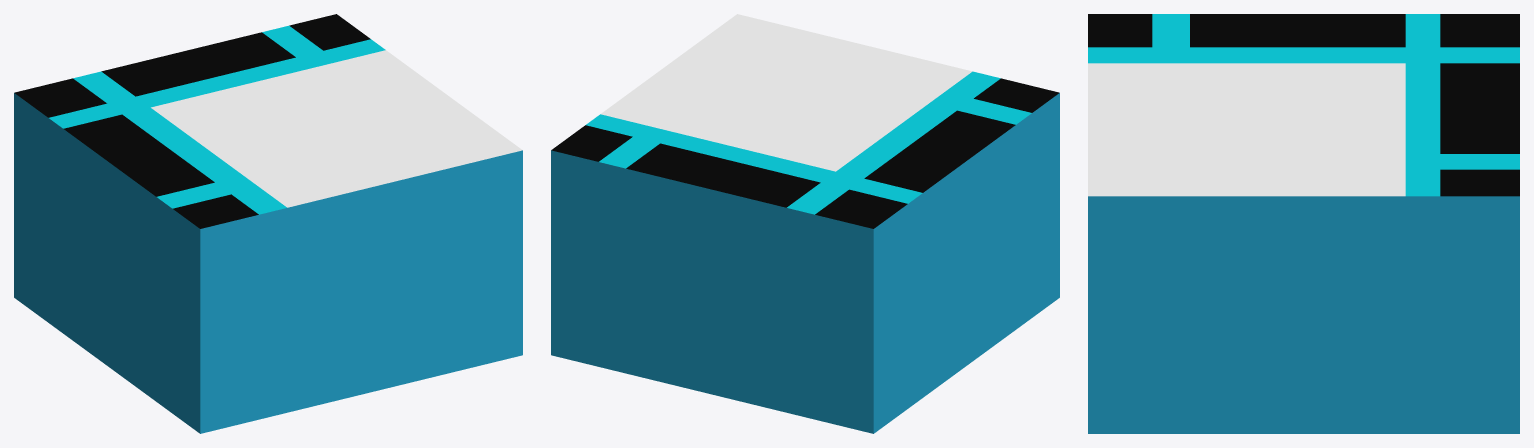
The model's file is GroundCenter.fbx.
The picture shows the model from 3 angles, left to right: view 1: azimuth 30°, elevation 25°; view 2: azimuth 150°, elevation 25°; view 3: azimuth 270°, elevation 25°; orthographic projection. The views are drawn at different scales.
Parts seen in each view (by area): view 1: GroundCenter; view 2: GroundCenter; view 3: GroundCenter.
Boxes of the visible parts, x1=… form: GroundCenter: x1=14, y1=14, x2=522, y2=433; GroundCenter: x1=551, y1=14, x2=1059, y2=433; GroundCenter: x1=1088, y1=14, x2=1519, y2=433.
Size of the model in its own units: 1469 by 892 by 1469.
